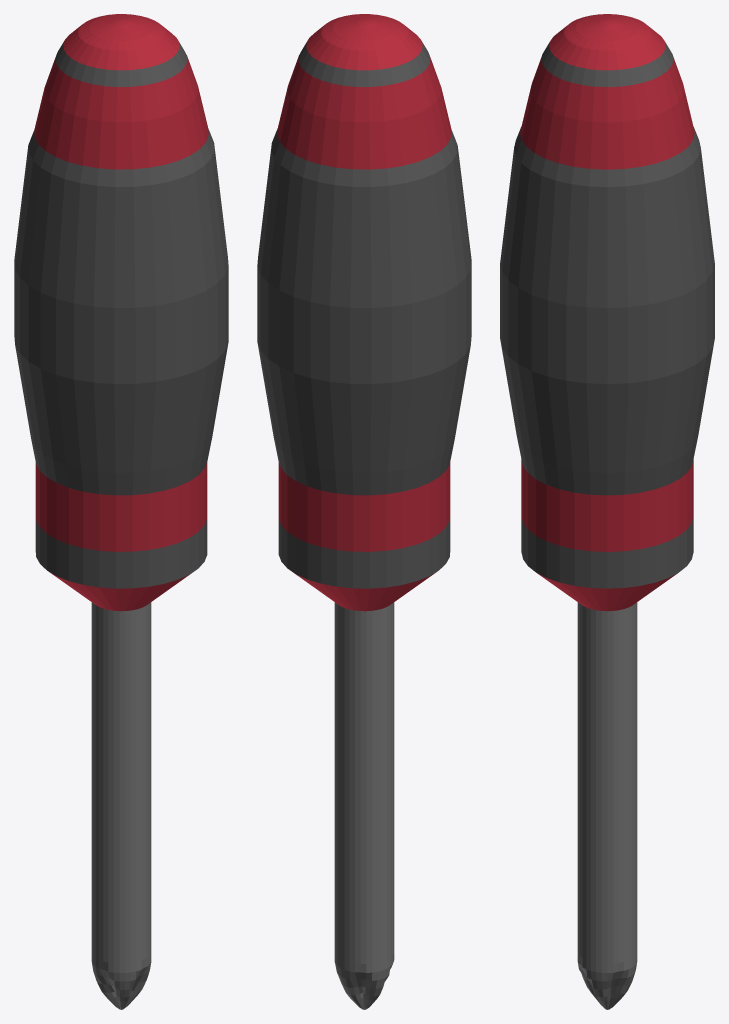
File: screwdriver.fbx
3 renders of one model, left to right at view 1: azimuth 30°, elevation 25°; view 2: azimuth 150°, elevation 25°; view 3: azimuth 270°, elevation 25°, orthographic.
Visible parts, largest first — view 1: Cylinder; view 2: Cylinder; view 3: Cylinder.
Part boxes in pixels (x1,y1,x2,y2): Cylinder: [14, 14, 228, 1009]; Cylinder: [257, 14, 471, 1009]; Cylinder: [500, 14, 714, 1009].
Bounding box in the file's own units: 716 × 3635 × 716.
